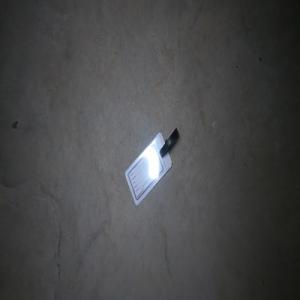LuggageTag: (123, 125, 179, 208)
